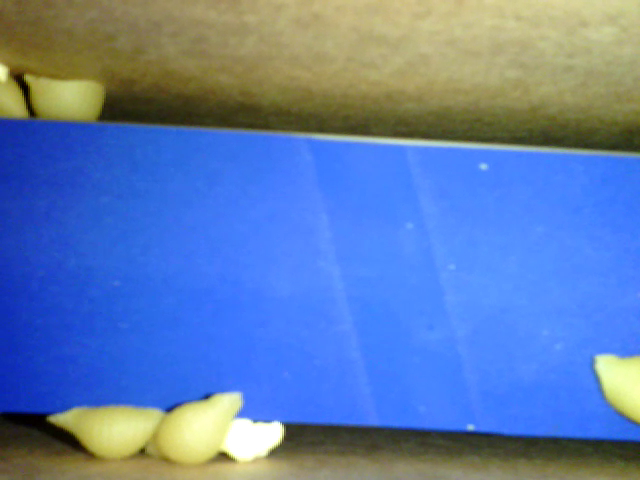shell: (144, 385, 247, 466), (48, 405, 167, 461), (22, 72, 105, 123), (595, 354, 638, 424)
